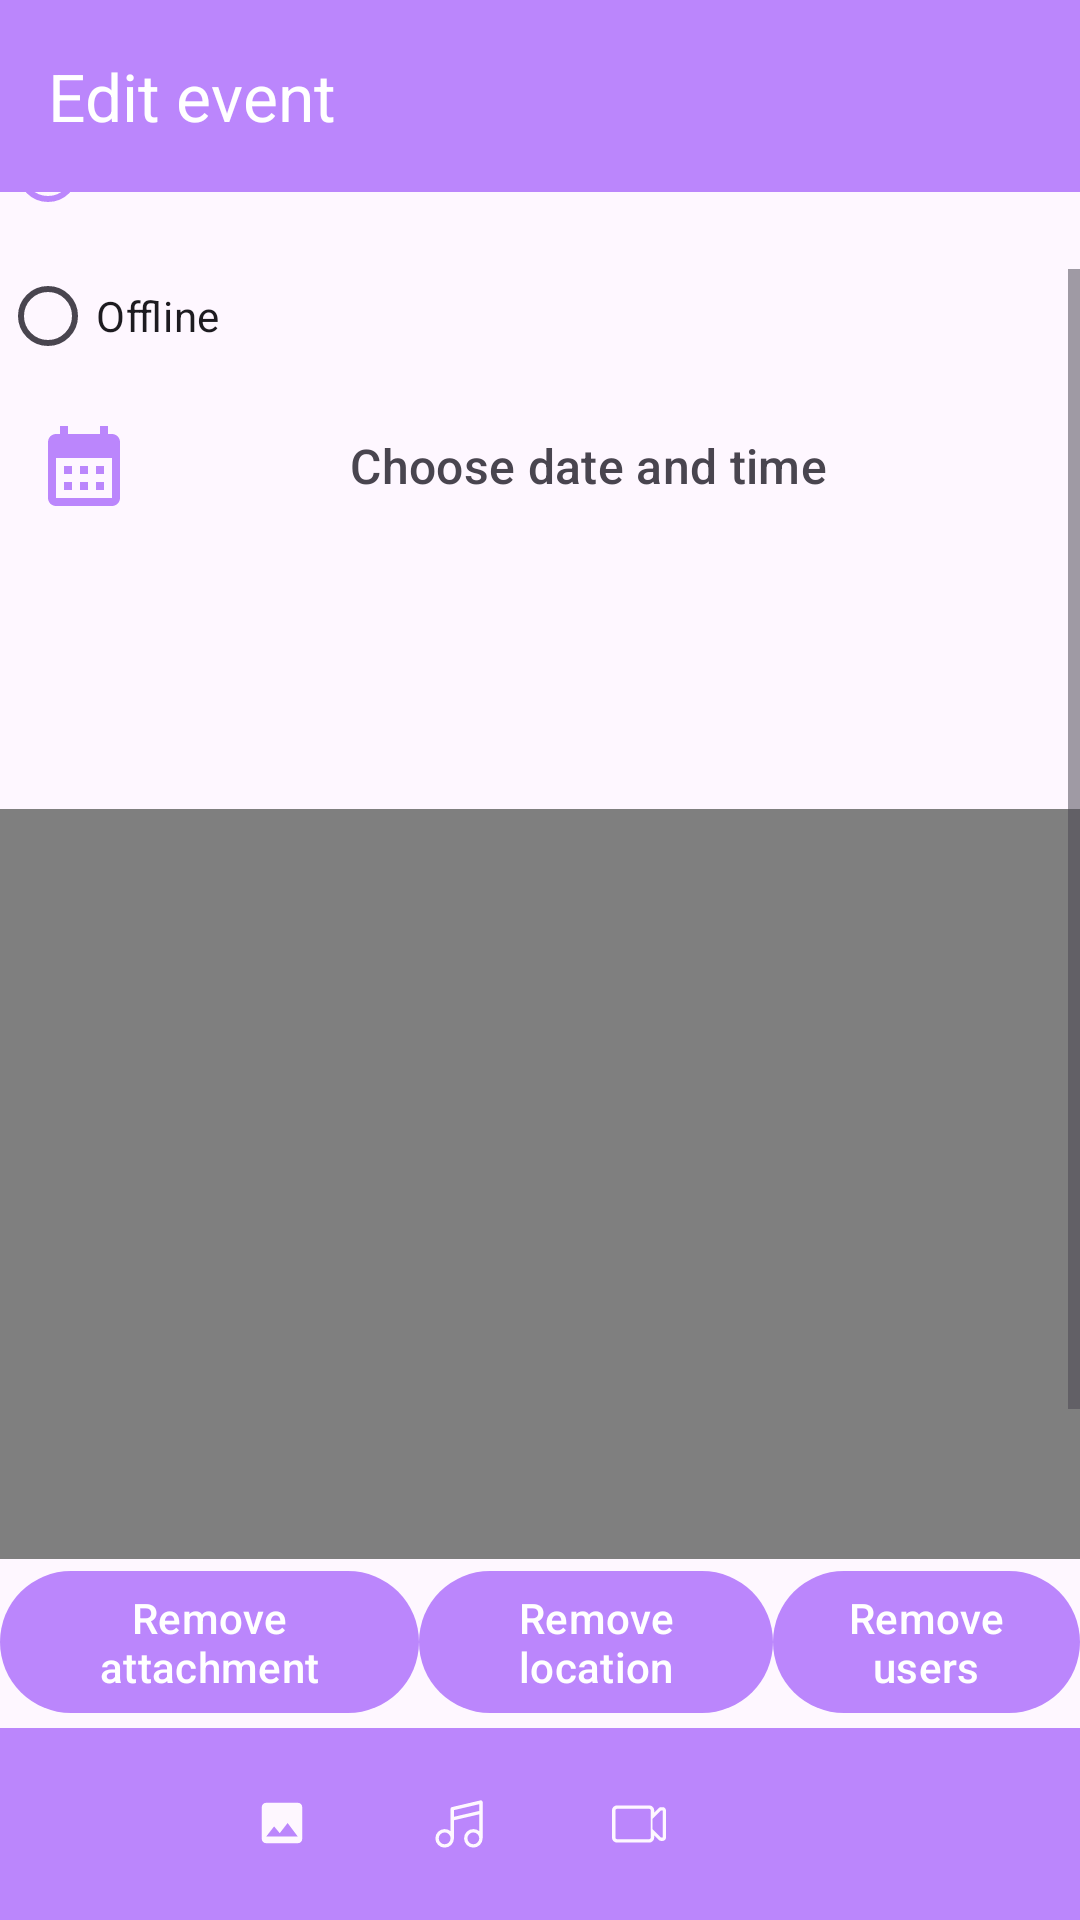

Locate icon controls on the screen. Image size 1080 × 1920, boxes as rect(x1, y1, x2, y2).
Audio: rect(435, 1800, 483, 1848)
Select photo: rect(261, 1802, 303, 1844)
